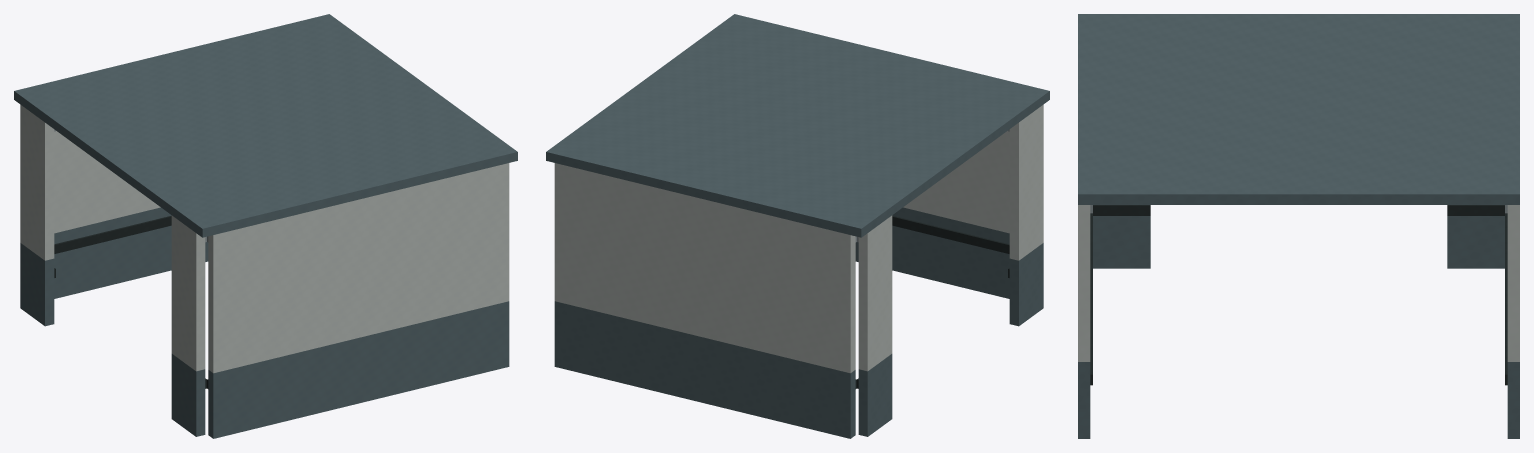
The model's file is AST-STF-G3-013.glb.
The picture shows the model from 3 angles, left to right: view 1: azimuth 30°, elevation 25°; view 2: azimuth 150°, elevation 25°; view 3: azimuth 270°, elevation 25°; orthographic projection. The views are drawn at different scales.
Parts seen in each view (by area): view 1: overhead_staff_bluegrey_paint_dining, screen_wall_staff_white_paint_dining, screen_wall_staff_bluegrey_paint_dining, screen_wall_staff_rubber_dining; view 2: overhead_staff_bluegrey_paint_dining, screen_wall_staff_white_paint_dining, screen_wall_staff_bluegrey_paint_dining, screen_wall_staff_rubber_dining; view 3: overhead_staff_bluegrey_paint_dining, screen_wall_staff_bluegrey_paint_dining, screen_wall_staff_white_paint_dining, screen_wall_staff_rubber_dining.
Part boxes in pixels (<box>): overhead_staff_bluegrey_paint_dining: <box>14,14,517,237</box>; screen_wall_staff_white_paint_dining: <box>20,104,509,373</box>; screen_wall_staff_bluegrey_paint_dining: <box>20,207,509,438</box>; screen_wall_staff_rubber_dining: <box>54,215,208,388</box>; overhead_staff_bluegrey_paint_dining: <box>546,14,1049,237</box>; screen_wall_staff_white_paint_dining: <box>554,104,1043,373</box>; screen_wall_staff_bluegrey_paint_dining: <box>554,207,1043,438</box>; screen_wall_staff_rubber_dining: <box>855,215,1009,388</box>; overhead_staff_bluegrey_paint_dining: <box>1078,14,1519,204</box>; screen_wall_staff_bluegrey_paint_dining: <box>1078,216,1519,438</box>; screen_wall_staff_white_paint_dining: <box>1078,205,1519,361</box>; screen_wall_staff_rubber_dining: <box>1090,205,1507,385</box>.
Bounding box in the file's own units: 5.18 × 3.34 × 5.36.
5 materials, 5 textured.
